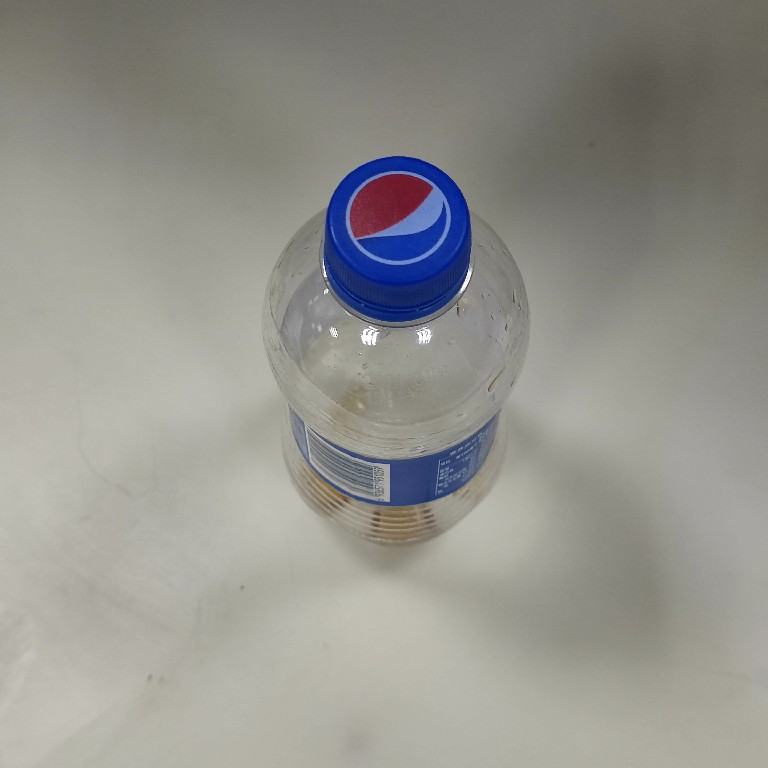bottle: (251, 152, 540, 556)
